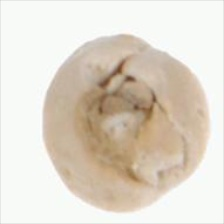L3: (85, 67, 183, 180)
L4: (41, 34, 210, 212)
